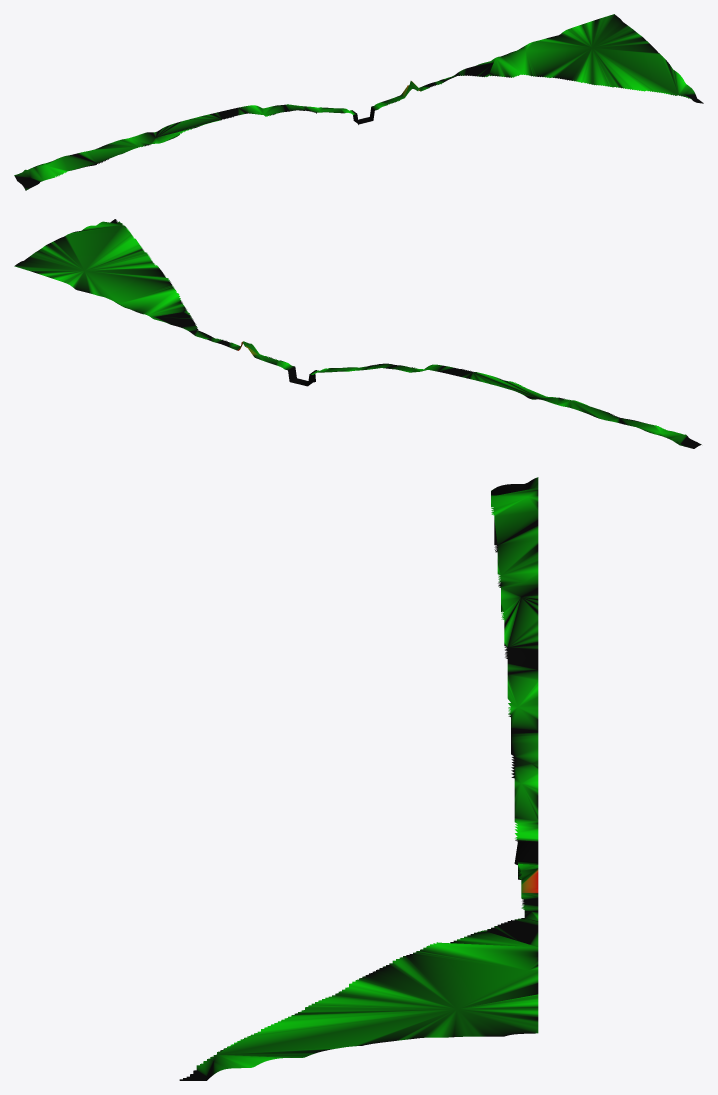
Rendered from N_1_2_anel.glb.
The picture shows the model from 3 angles, top to bottom: view 1: azimuth 30°, elevation 25°; view 2: azimuth 150°, elevation 25°; view 3: azimuth 270°, elevation 25°; orthographic projection. The views are drawn at different scales.
Parts seen in each view (by area): view 1: N_1_2; view 2: N_1_2; view 3: N_1_2.
Part boxes in pixels (x1,y1,x2,y2): N_1_2: (14,14,703,190); N_1_2: (14,219,701,448); N_1_2: (179,477,538,1080).
Bounding box in the file's own units: 256 × 17.61 × 66.26.
